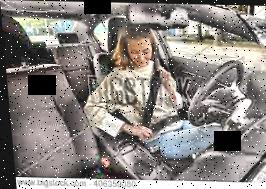seatbelt: (137, 54, 175, 135)
